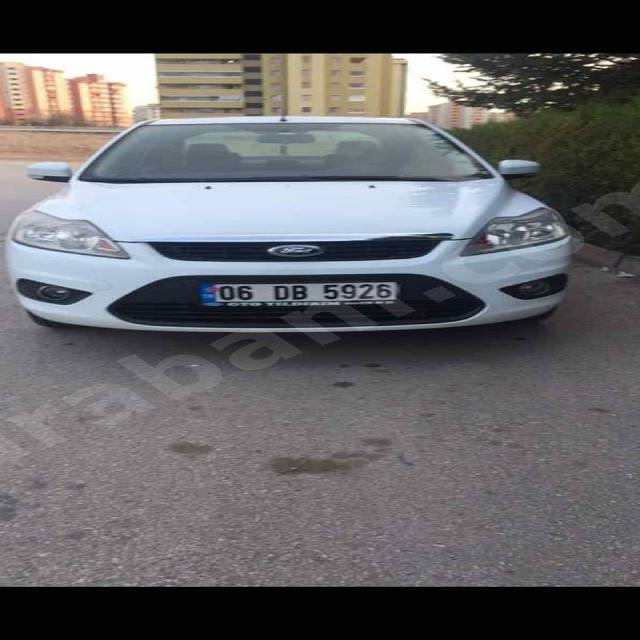license_plate: (198, 282, 398, 302)
